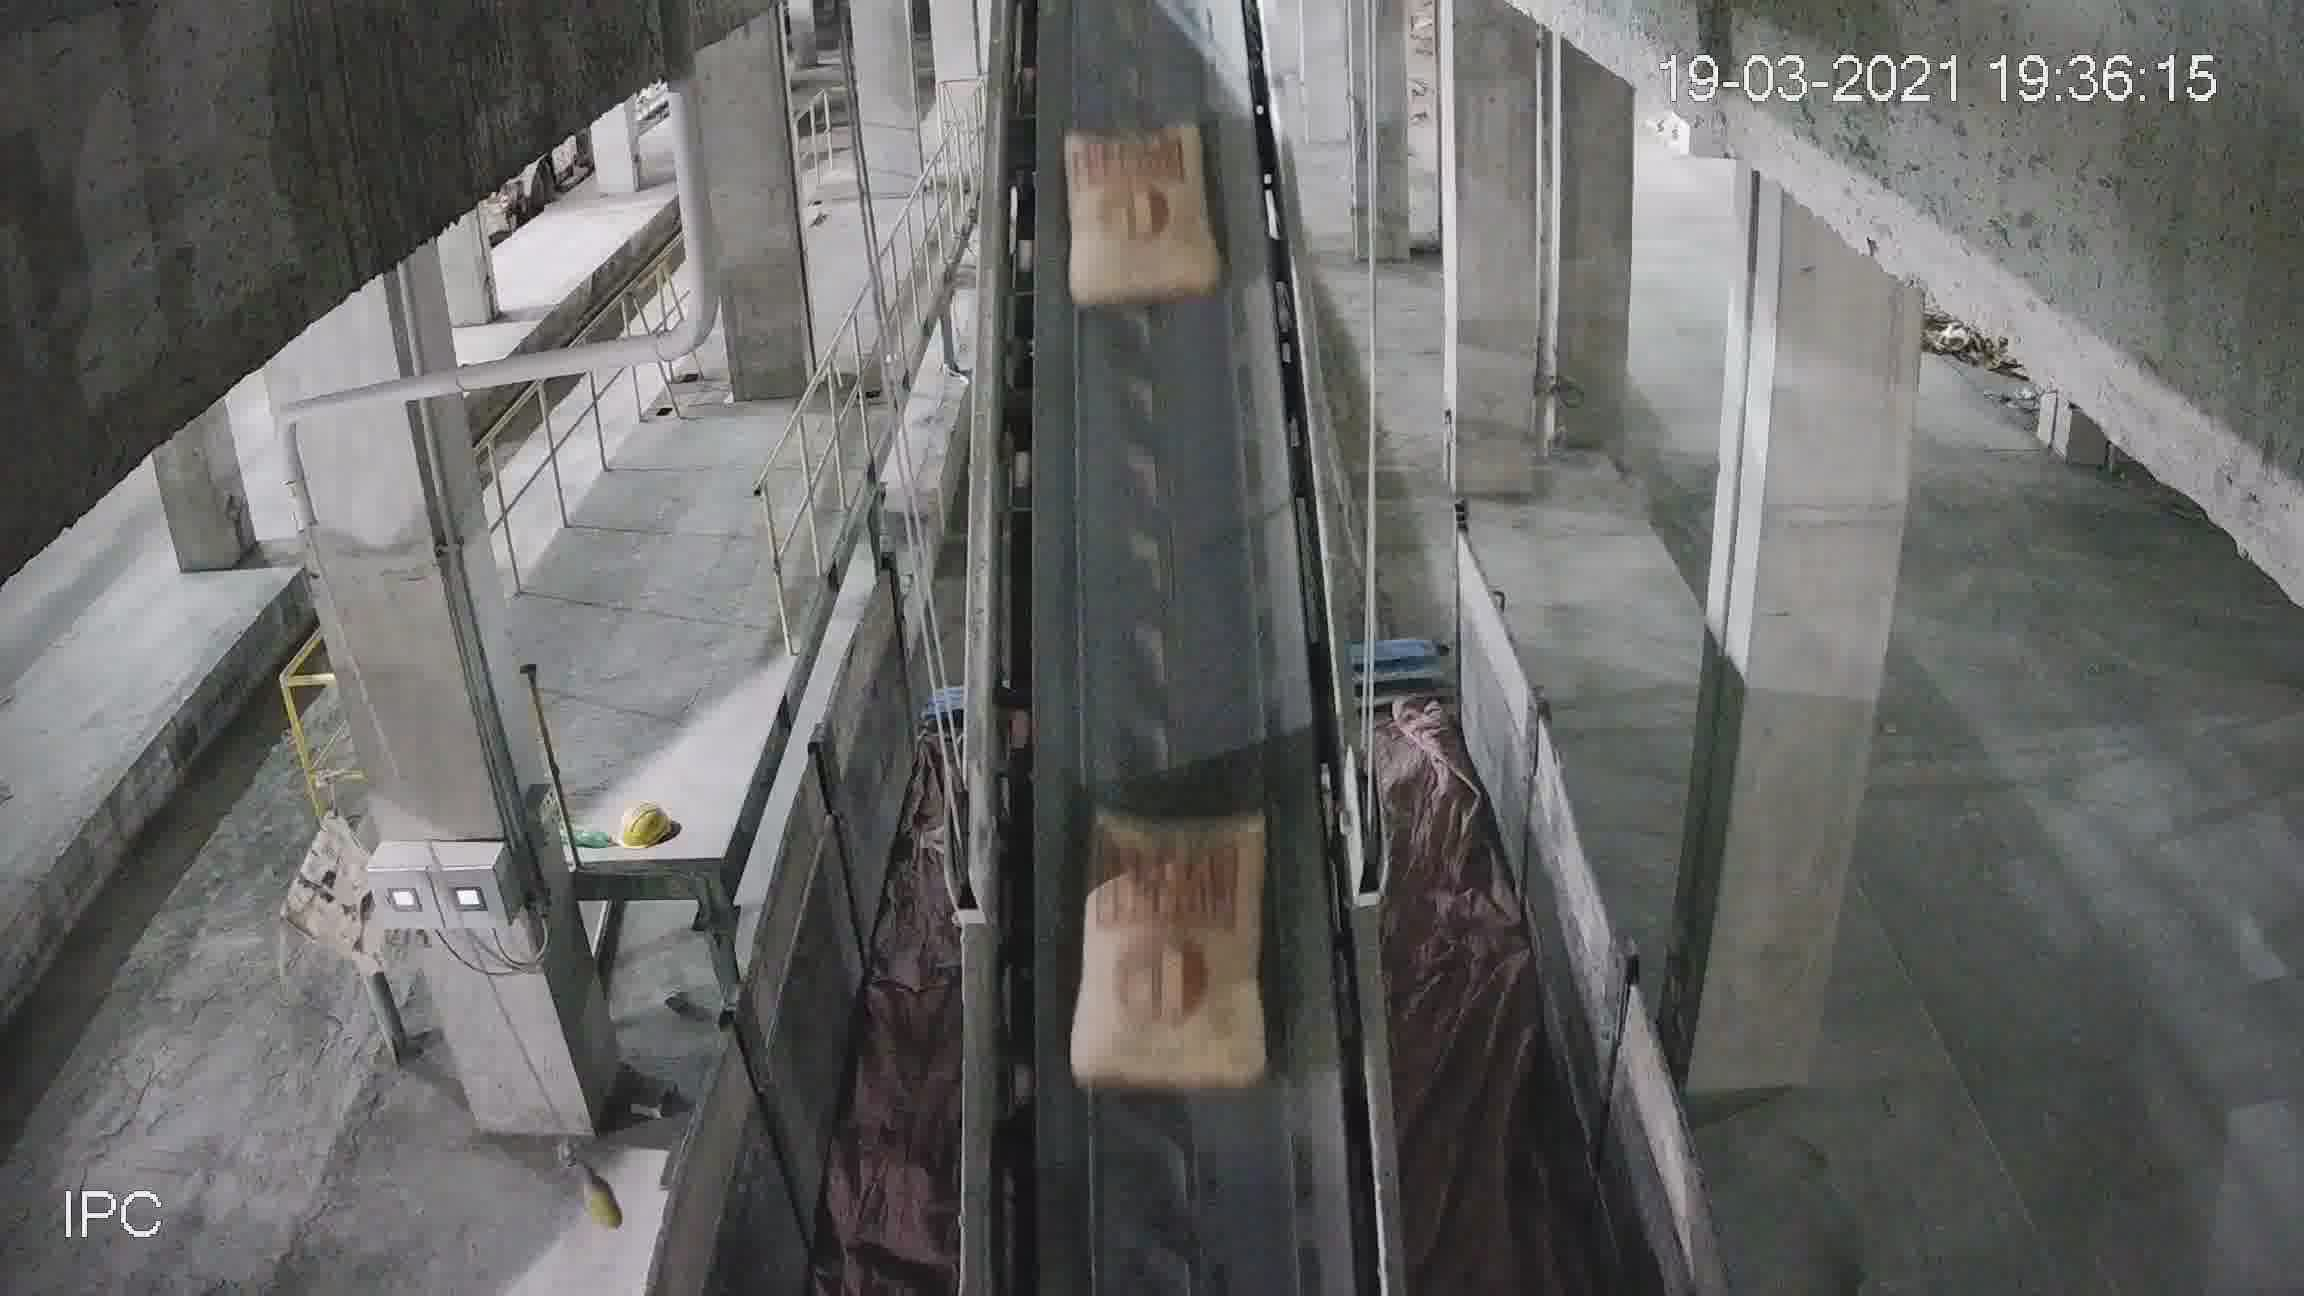bag: (1082, 821, 1269, 1100), (1067, 120, 1218, 305)
belt: (964, 25, 1381, 1215)
